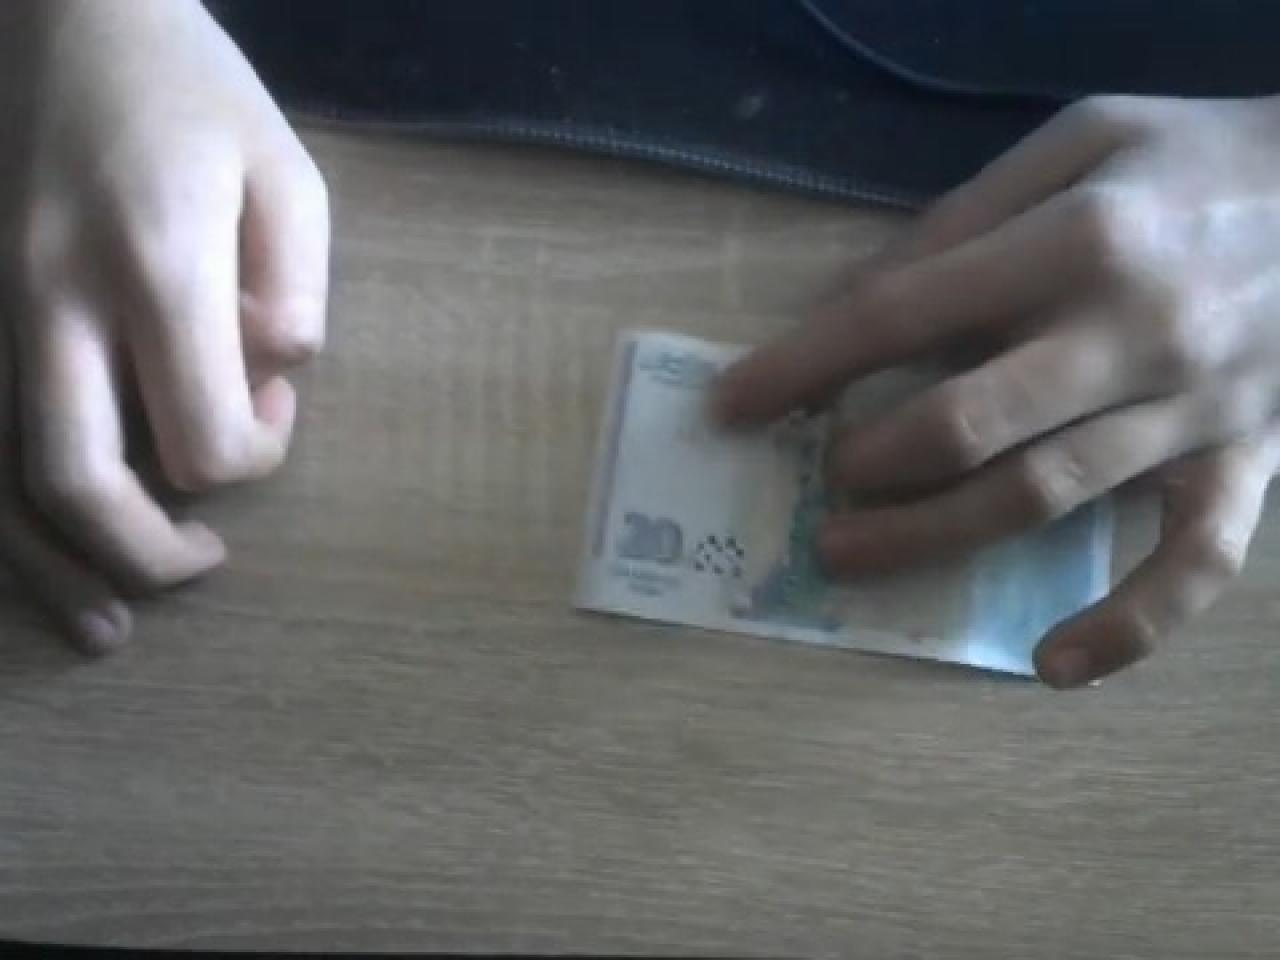20leva: (571, 331, 1155, 680)
